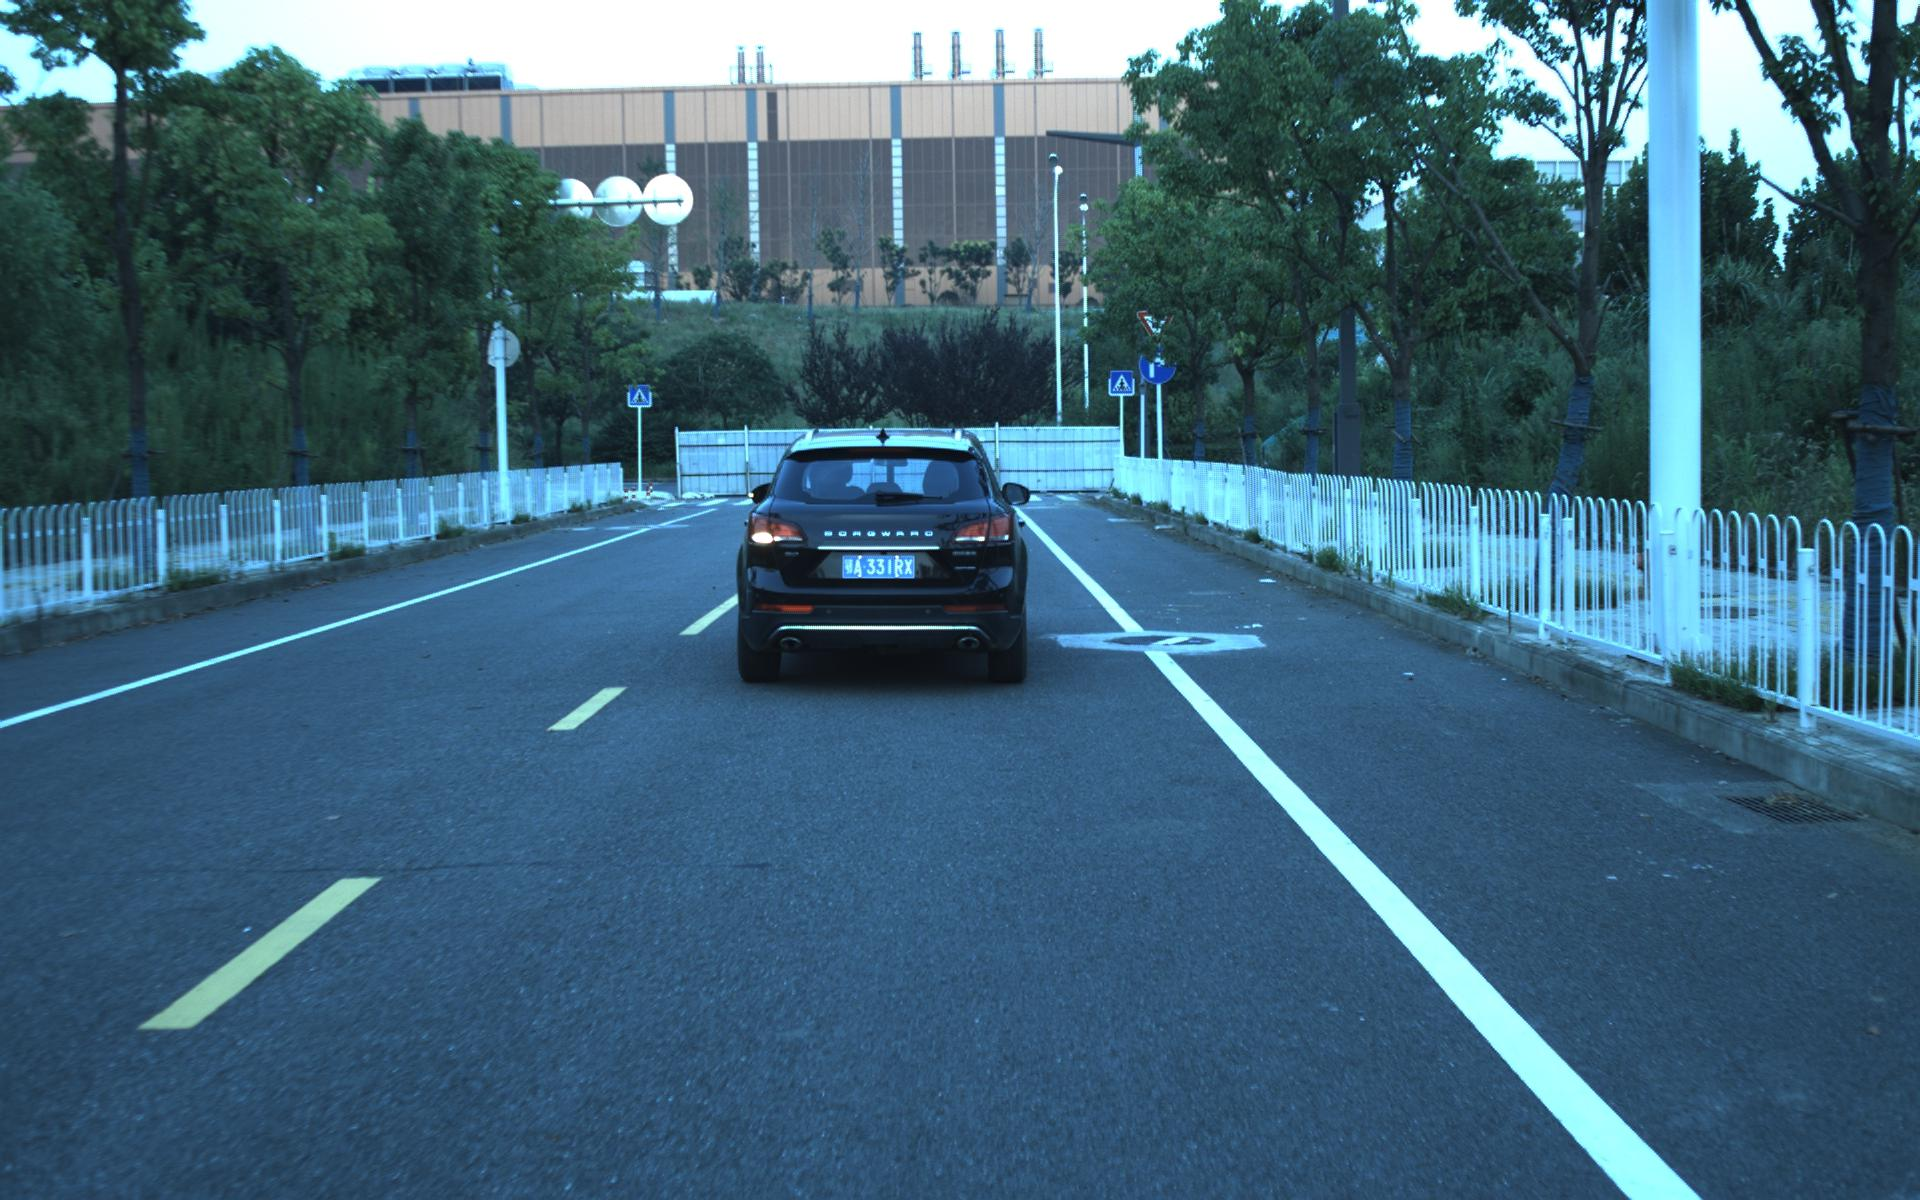Car: (733, 420, 1033, 687)
